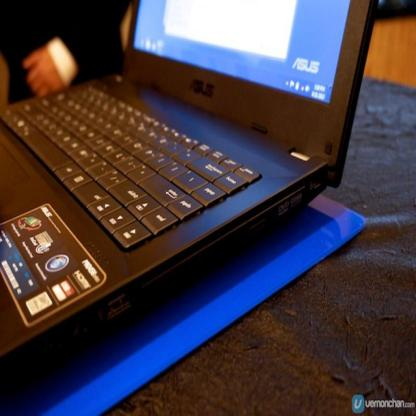board: (0, 0, 377, 374)
